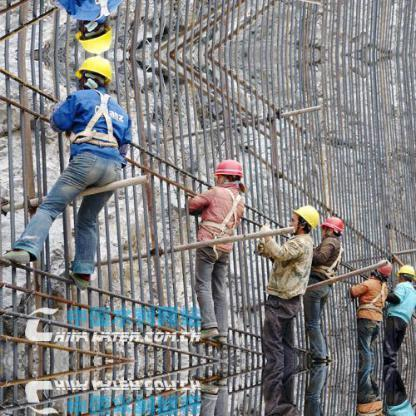helmet: (76, 54, 117, 84), (286, 201, 322, 234), (211, 158, 251, 187), (368, 253, 395, 281), (322, 211, 348, 237), (399, 260, 414, 281)
